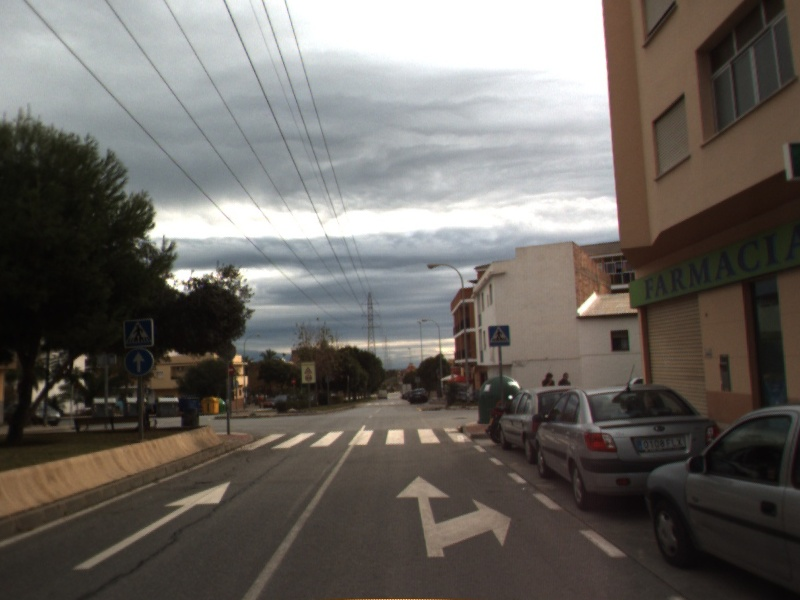STRAIGHT: (69, 479, 233, 572)
STRAIGHT_RIGHT: (393, 473, 514, 559)
